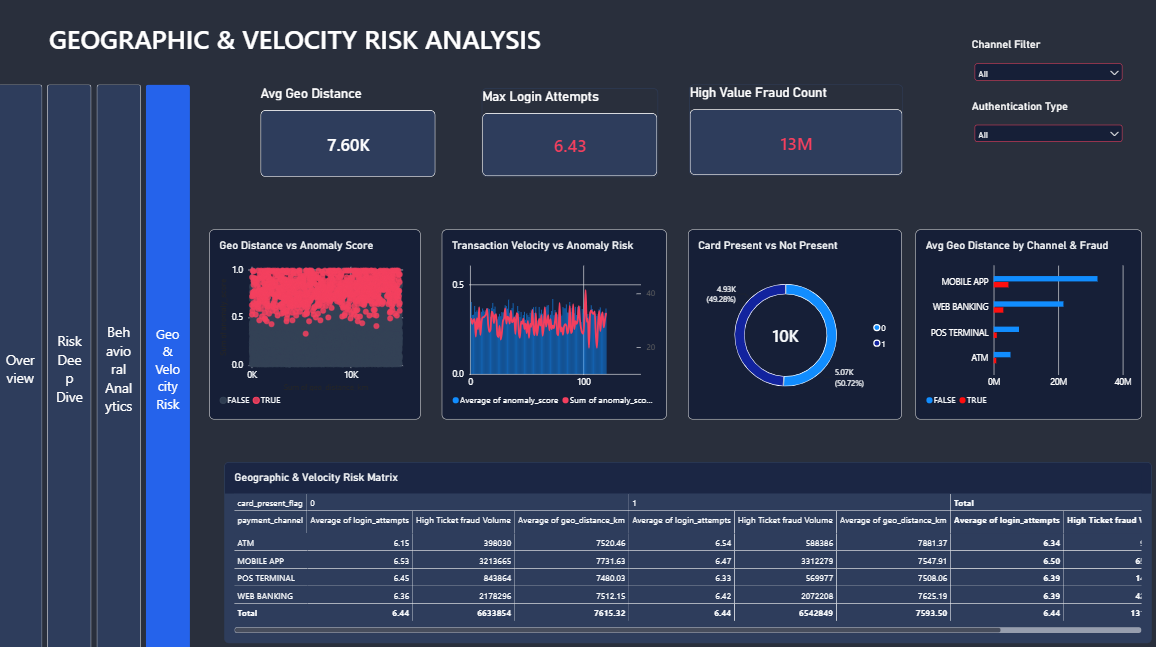

The page's visual inventory and layout, read from the dashboard file:
{"tool":"powerbi","page":{"name":"Geo & Velocity Risk","canvas":[1920,1080],"ordinal":3},"visuals":[{"type":"cardVisual","title":"Max Login Attempts","fields":{"Data":["Avg(fact.login_attempts)"]},"box":[796.6,150.3,290.2,146.1],"z":0},{"type":"cardVisual","title":"Avg Geo Distance","fields":{"Data":["Avg(fact.geo_distance_km)"]},"box":[432.2,146.1,288.2,150.3],"z":1000},{"type":"slicer","title":"Channel Filter","fields":{"Values":["fact.payment_channel"]},"box":[1603.4,67.9,253.2,72],"z":2000},{"type":"slicer","title":"Authentication Type","fields":{"Values":["fact.authentication_type"]},"box":[1603.4,168.8,253.2,113.2],"z":3000},{"type":"cardVisual","fields":{"Data":["fact.Page 4"]},"box":[67.9,10.3,1090.9,115.3],"z":4000},{"type":"pageNavigator","box":[0,144.1,319,936.5],"z":5000},{"type":"scatterChart","title":"Geo Distance vs Anomaly Score","fields":{"Category":["fact.transaction_id"],"X":["Sum(fact.geo_distance_km)"],"Series":["fact.fraud_flag"],"Y":["Sum(fact.anomaly_score)"]},"box":[347.9,382.8,347.9,312.9],"z":6000},{"type":"lineClusteredColumnComboChart","title":"Transaction Velocity vs Anomaly Risk","fields":{"Category":["fact.daily_transaction_count"],"Y":["Avg(fact.anomaly_score)"],"Y2":["Sum(fact.anomaly_score)"]},"box":[730.7,382.8,370.5,312.9],"z":7000},{"type":"pivotTable","title":"Geographic & Velocity Risk Matrix","fields":{"Values":["Avg(fact.login_attempts)","fact.High Ticket fraud Volume","Avg(fact.geo_distance_km)"],"Rows":["fact.payment_channel"],"Columns":["fact.card_present_flag"]},"box":[372.6,765.7,1527.3,298.5],"z":8000},{"type":"donutChart","title":"Card Present vs Not Present","fields":{"Category":["fact.card_present_flag"],"Y":["CountNonNull(fact.transaction_id)"]},"box":[1136.2,382.8,352,312.9],"z":9000},{"type":"clusteredBarChart","title":"Avg Geo Distance by Channel & Fraud","fields":{"Category":["fact.payment_channel"],"Series":["fact.fraud_flag"],"Y":["Sum(fact.geo_distance_km)"]},"box":[1510.8,382.8,372.6,312.9],"z":10000},{"type":"cardVisual","title":"High Value Fraud Count","fields":{"Data":["fact.High Ticket fraud Volume"]},"box":[1138.3,144.1,352,150],"z":11000}]}

Visuals, with their boxes in screenshot pixels (x1, y1, x2, y2), scaled from the page's 1920x1080 canvas onto the 1156x647 screenshot:
"Max Login Attempts" cardVisual: [left=480, top=90, right=654, bottom=178]
"Avg Geo Distance" cardVisual: [left=260, top=88, right=434, bottom=178]
"Channel Filter" slicer: [left=965, top=41, right=1118, bottom=84]
"Authentication Type" slicer: [left=965, top=101, right=1118, bottom=169]
cardVisual - fact.Page 4: [left=41, top=6, right=698, bottom=75]
pageNavigator: [left=0, top=86, right=192, bottom=646]
"Geo Distance vs Anomaly Score" scatterChart: [left=209, top=229, right=419, bottom=417]
"Transaction Velocity vs Anomaly Risk" lineClusteredColumnComboChart: [left=440, top=229, right=663, bottom=417]
"Geographic & Velocity Risk Matrix" pivotTable: [left=224, top=459, right=1144, bottom=638]
"Card Present vs Not Present" donutChart: [left=684, top=229, right=896, bottom=417]
"Avg Geo Distance by Channel & Fraud" clusteredBarChart: [left=910, top=229, right=1134, bottom=417]
"High Value Fraud Count" cardVisual: [left=685, top=86, right=897, bottom=176]
